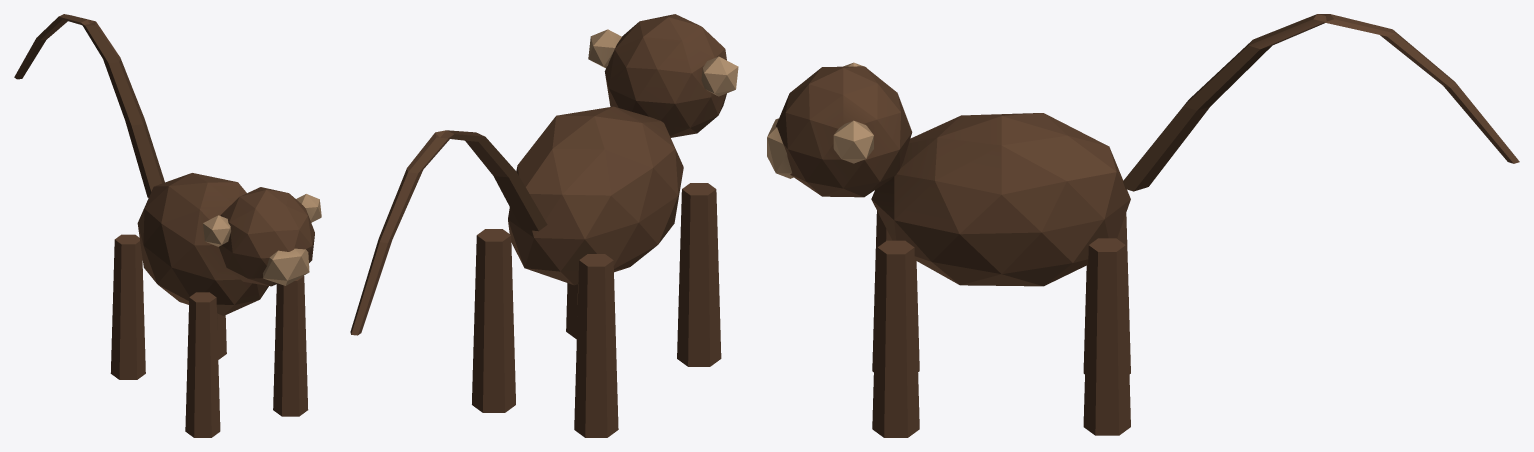
Rendered from Monkey.fbx.
3 views of the same model, side by side, from view 1: azimuth 30°, elevation 25°; view 2: azimuth 150°, elevation 25°; view 3: azimuth 270°, elevation 25° (orthographic). The views are drawn at different scales.
Visible parts, largest first — view 1: Monkey, LegFR.002, LegBR.002, LegFL.002, Tail, LegBL.002; view 2: Monkey, LegFR.002, LegBR.002, LegBL.002, Tail, LegFL.002; view 3: Monkey, LegBL.002, LegFL.002, Tail, LegFR.002, LegBR.002.
Boxes of the visible parts, box(x1,y1,x2,y2) form: Monkey: box(137, 173, 321, 315); LegFR.002: box(185, 292, 220, 437); LegBR.002: box(110, 234, 145, 379); LegFL.002: box(273, 276, 308, 416); Tail: box(14, 14, 164, 197); LegBL.002: box(217, 314, 226, 359); Monkey: box(508, 14, 738, 285); LegFR.002: box(677, 183, 721, 366); LegBR.002: box(574, 254, 618, 437); LegBL.002: box(472, 229, 515, 412); Tail: box(350, 130, 547, 335); LegFL.002: box(566, 283, 578, 339); Monkey: box(767, 62, 1130, 286); LegBL.002: box(1083, 238, 1130, 435); LegFL.002: box(872, 240, 919, 437); Tail: box(1123, 14, 1519, 191); LegFR.002: box(872, 211, 919, 372); LegBR.002: box(1083, 213, 1130, 374).
Size of the model in its own units: 0.3405 by 0.7991 by 1.43.
